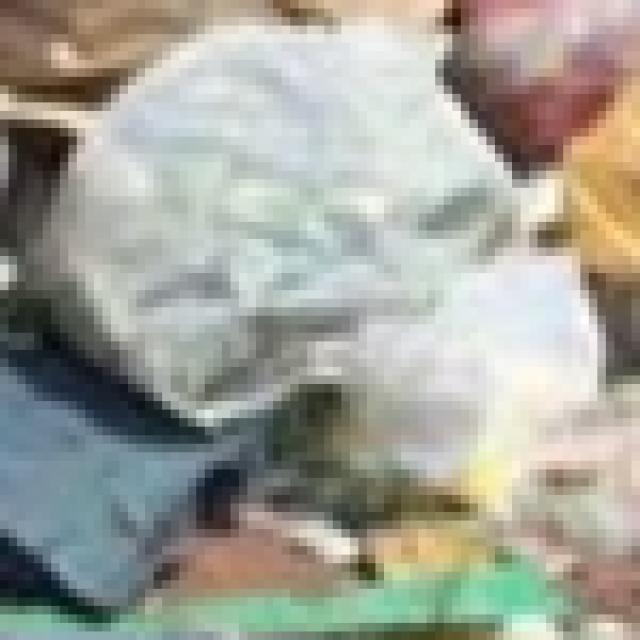plastic bag: (77, 0, 640, 546)
